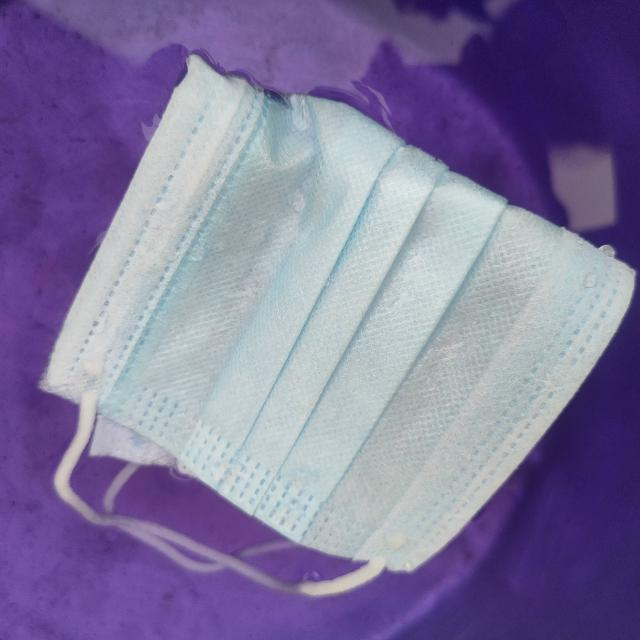mask: (26, 52, 628, 588)
